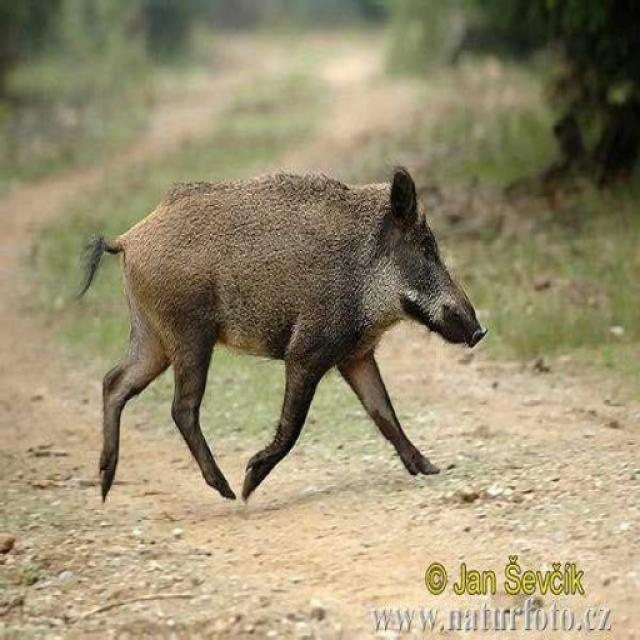pig: (80, 142, 510, 504)
